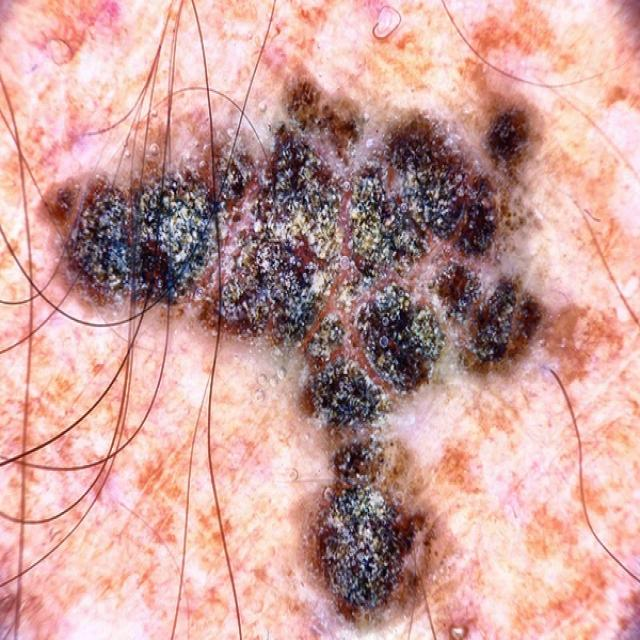Benign-Keratosis-like-Lesions-BKL-: (20, 32, 581, 622)
